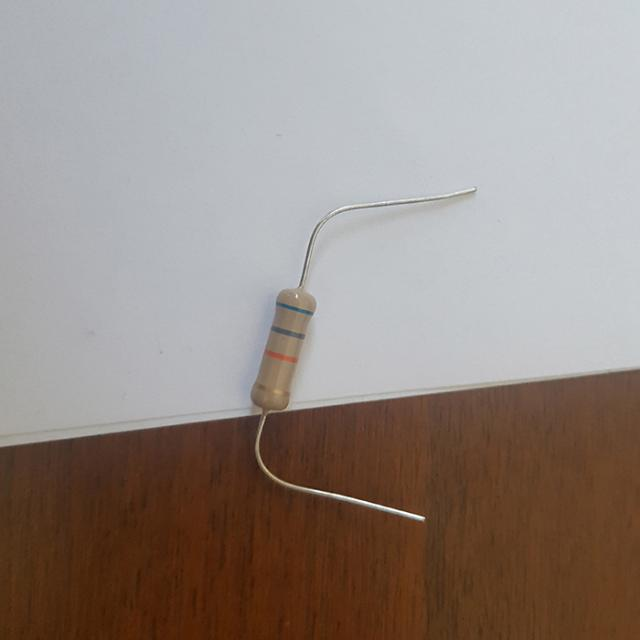blue: (277, 302, 314, 314)
gold: (255, 382, 288, 395)
grey: (271, 325, 304, 337)
orange: (265, 350, 297, 362)
resistor: (231, 265, 328, 427)
